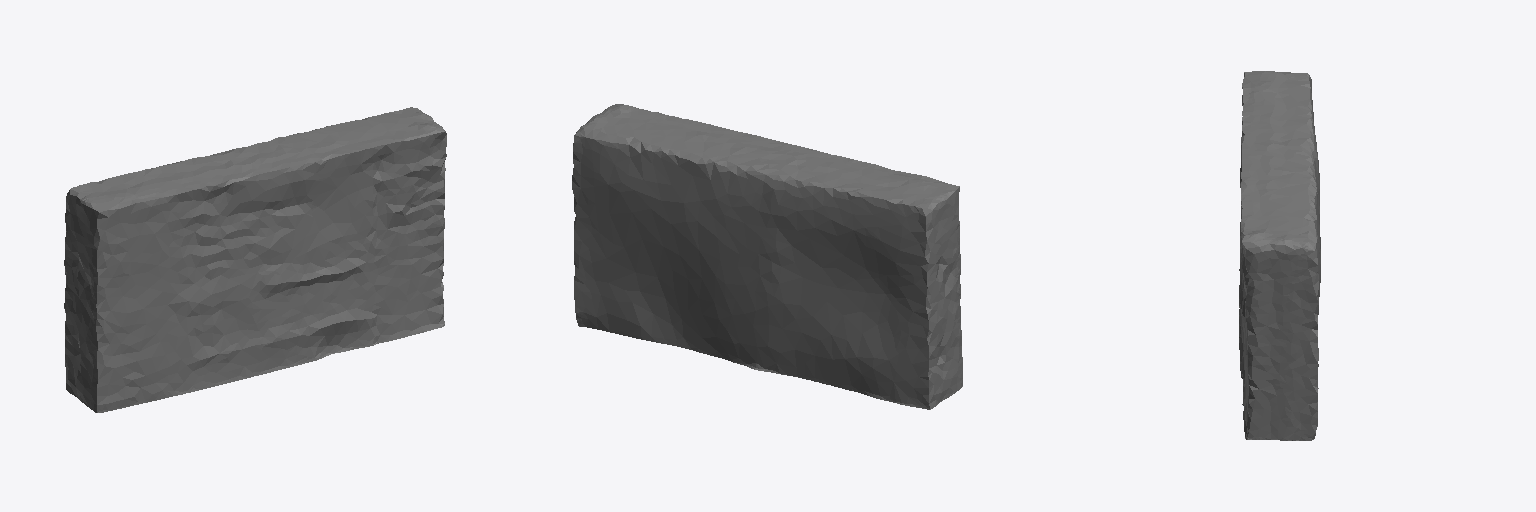
The model's file is amazon_notes.obj.
3 views of the same model, side by side, from view 1: azimuth 30°, elevation 25°; view 2: azimuth 150°, elevation 25°; view 3: azimuth 270°, elevation 25° (orthographic).
Visible parts, largest first — view 1: amazon_notes; view 2: amazon_notes; view 3: amazon_notes.
Boxes of the visible parts, x1,y1,x2,y2 form: amazon_notes: [64, 107, 446, 412]; amazon_notes: [572, 104, 962, 409]; amazon_notes: [1239, 71, 1320, 440].
Size of the model in its own units: 0.127 by 0.0689 by 0.0256.